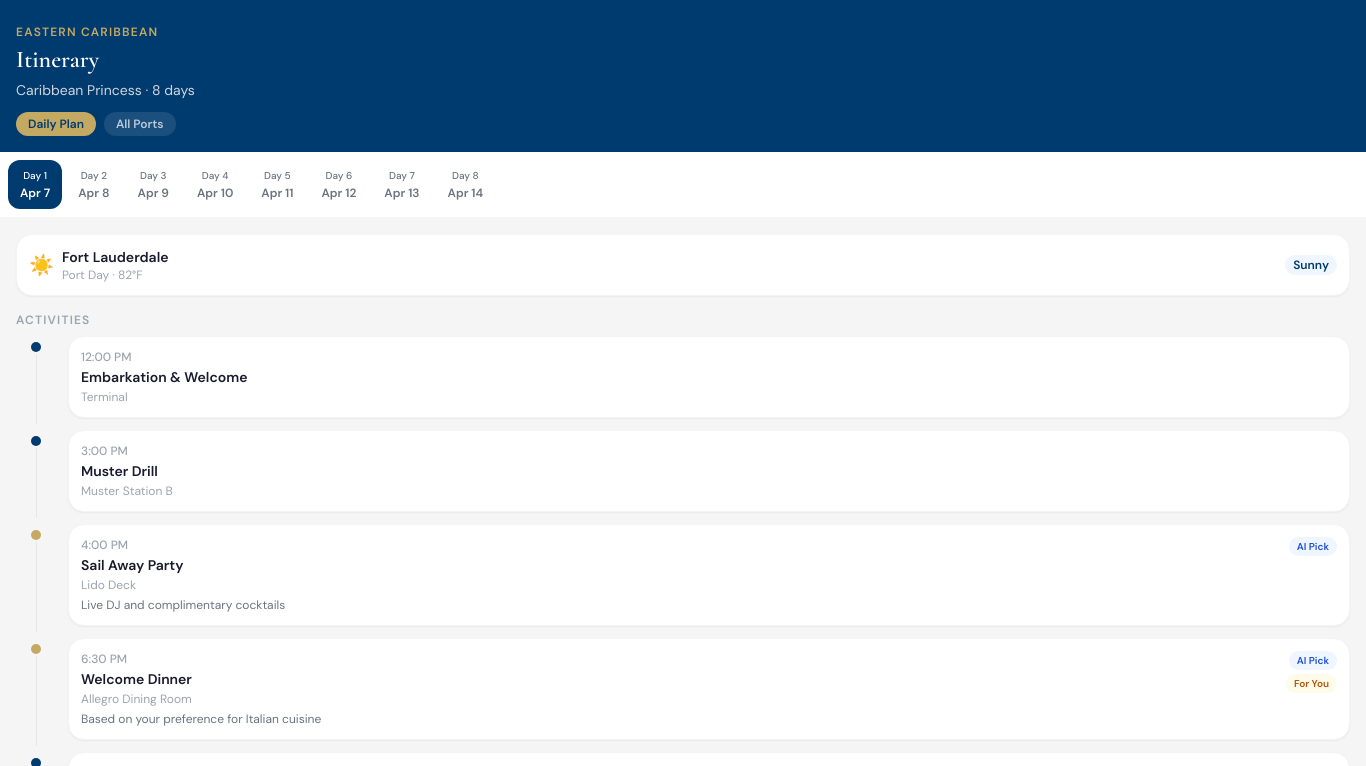
it: ItineraryPage › switches to day 5 and shows St. Thomas activities
Click the text "Day 5". click: (277, 176)
box: 264,168 -> 291,183
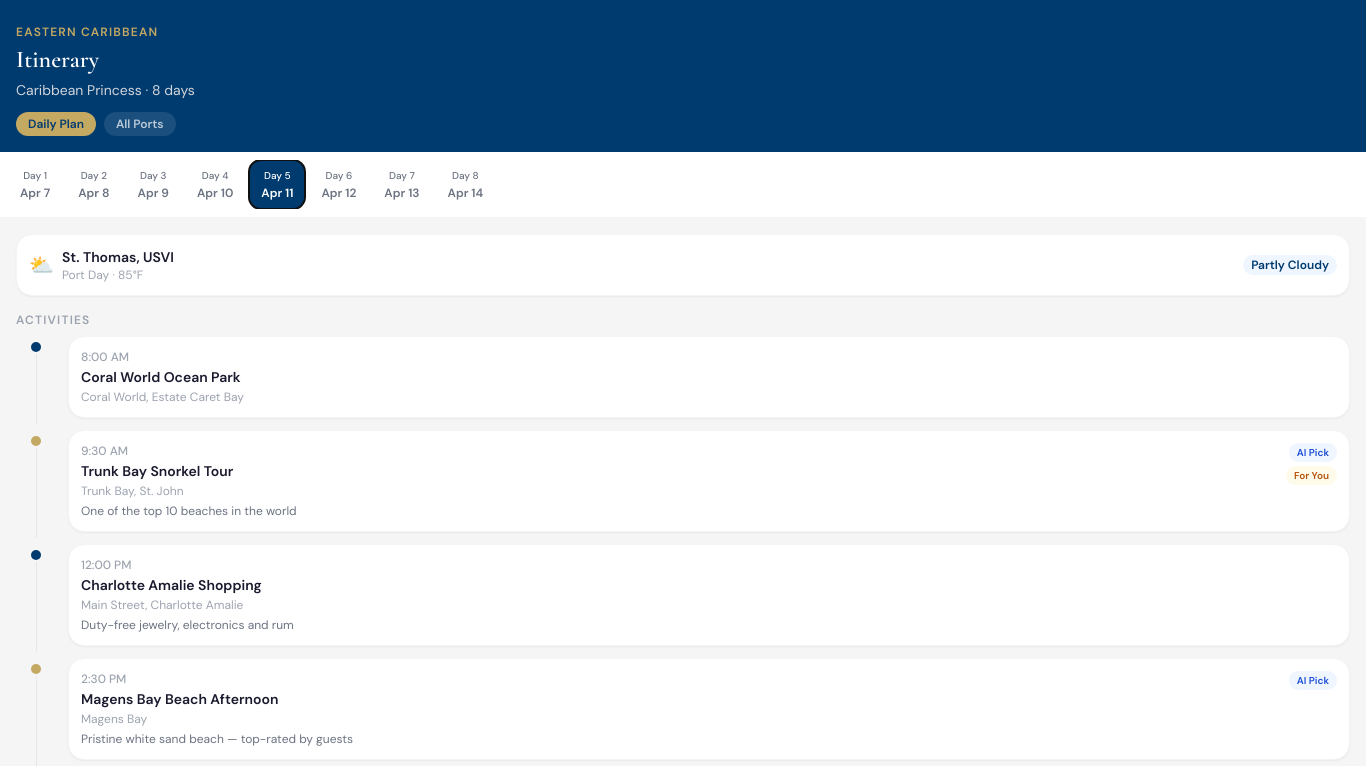
Check: the text "Trunk Bay Snorkel Tour" is shown, box 81,462 -> 233,480
Check: the text "Charlotte Amalie Shopping" is shown, box 81,576 -> 262,594
